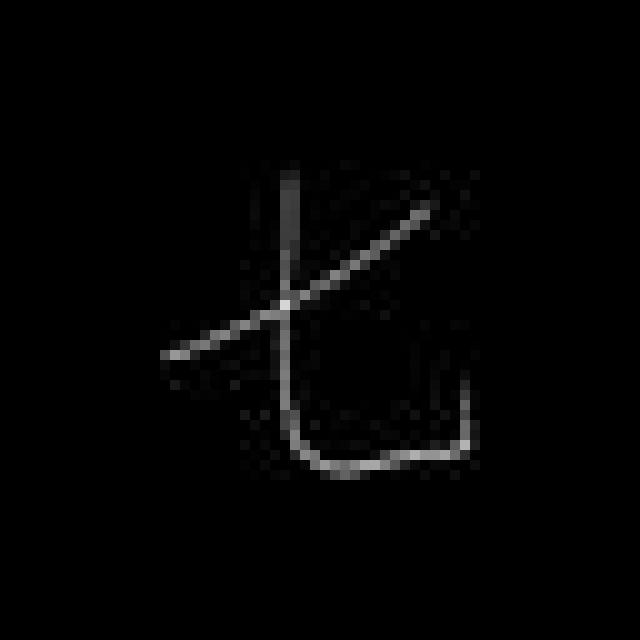7 -seven-: (151, 151, 483, 480)
